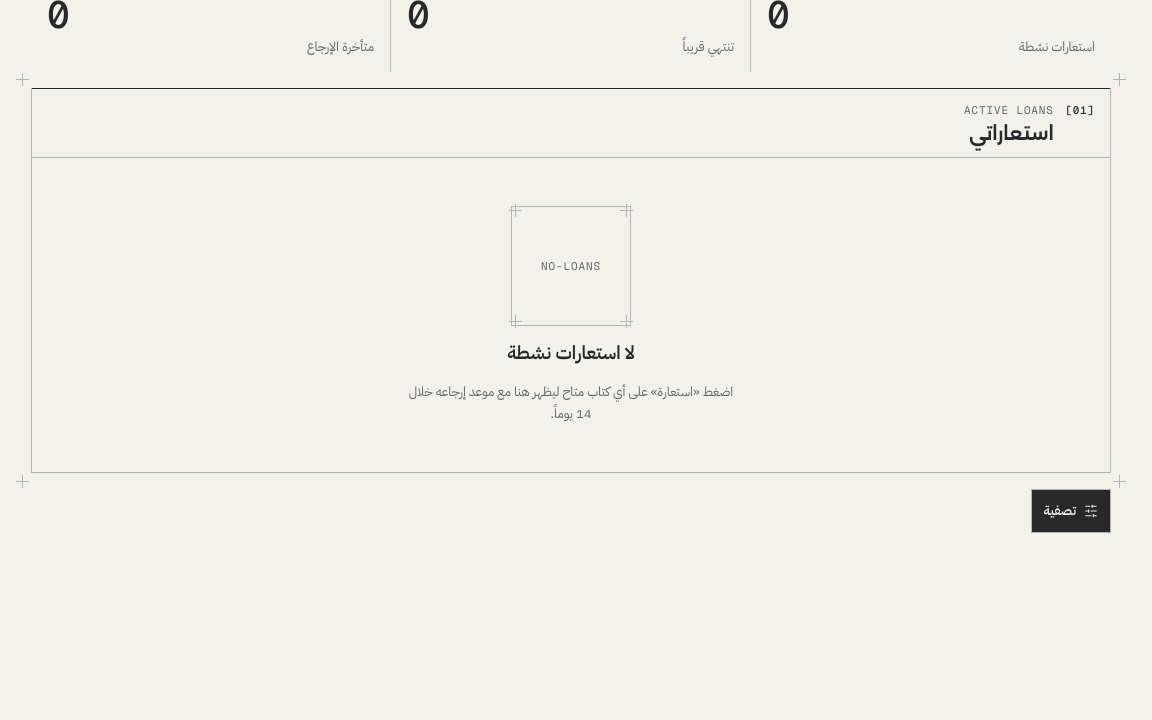
Test: LibraryPage — the .r305rp marker (R305-A7) › the open mobile filter Sheet (a portal OUTSIDE the marker) never mints a second root
(page scrolled)
Click the button "تصفية": click(1071, 511) [1031,489,1111,533]
(page scrolled)
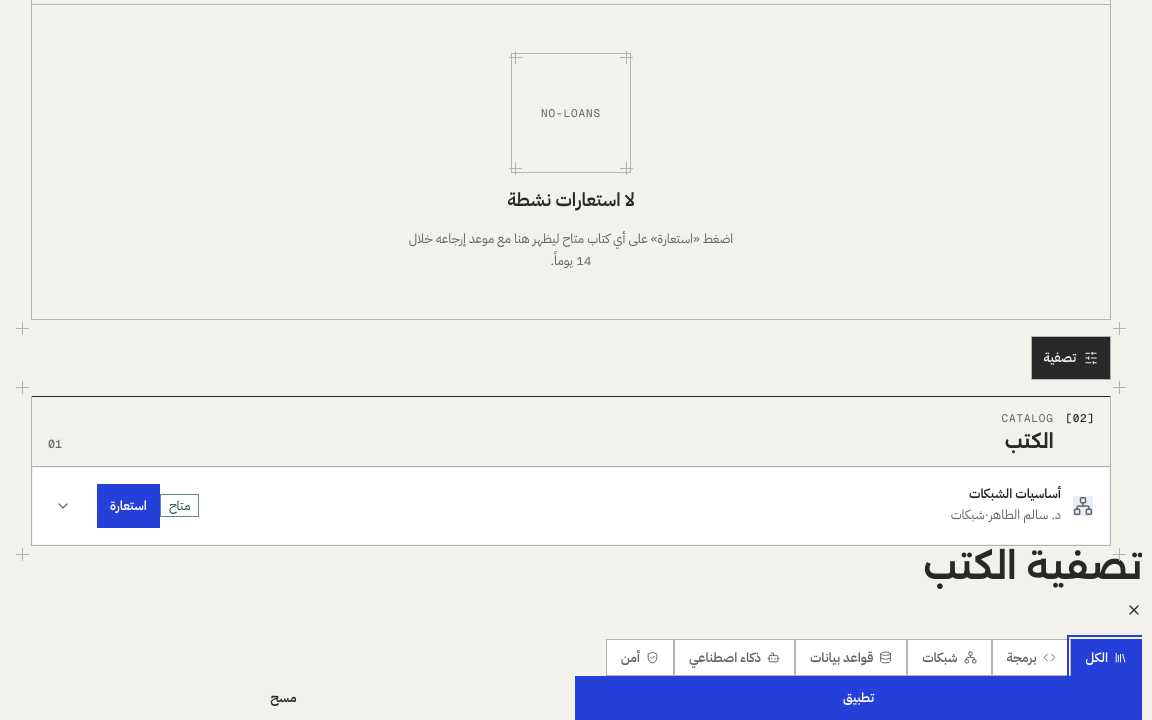
Expected: the dialog "تصفية الكتب" is shown, [0,546,1142,719]
